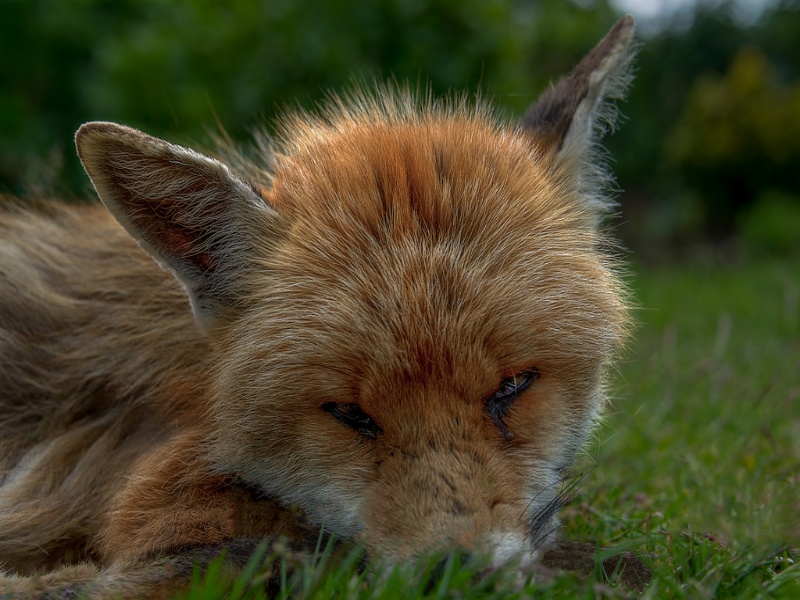fox: (14, 12, 652, 581)
